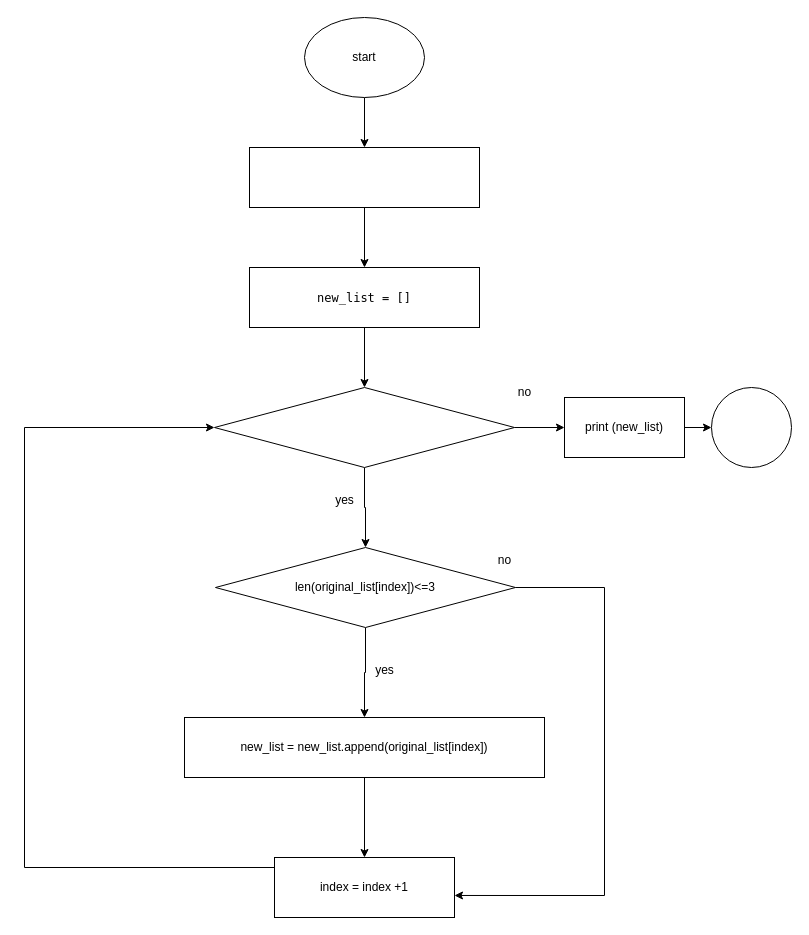
Image size: 809x935. Some labels were removed from this diagram. The shapes that lost their labels are listed below. From the top down, each one's centre as x and y in pixels, then its label:
[364,177]: original_list = ["Hello", "2", "world", ":-)"] index = 0
[364,427]: index<size
[751,427]: end
